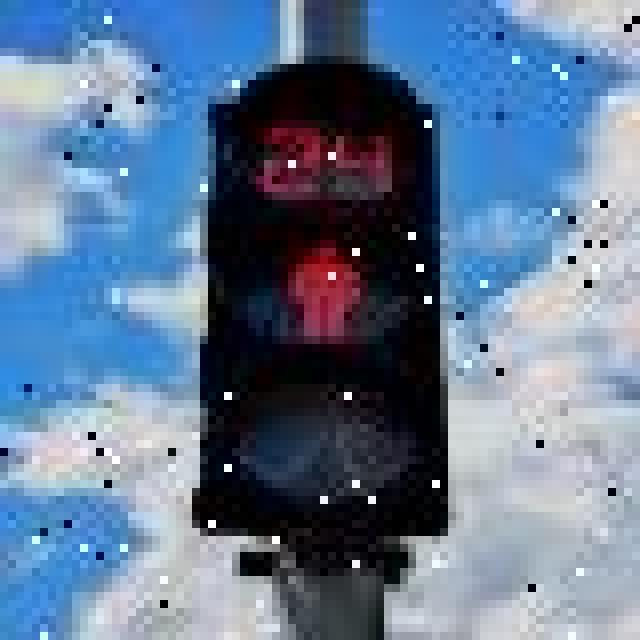redlight: (176, 192, 448, 560)
